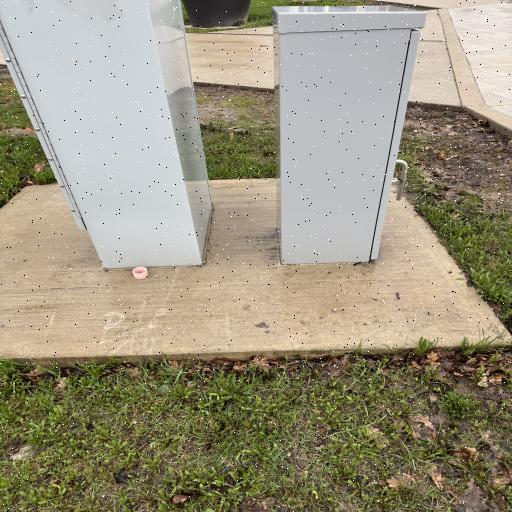Electrical Box: (0, 0, 218, 265), (268, 2, 430, 264)
